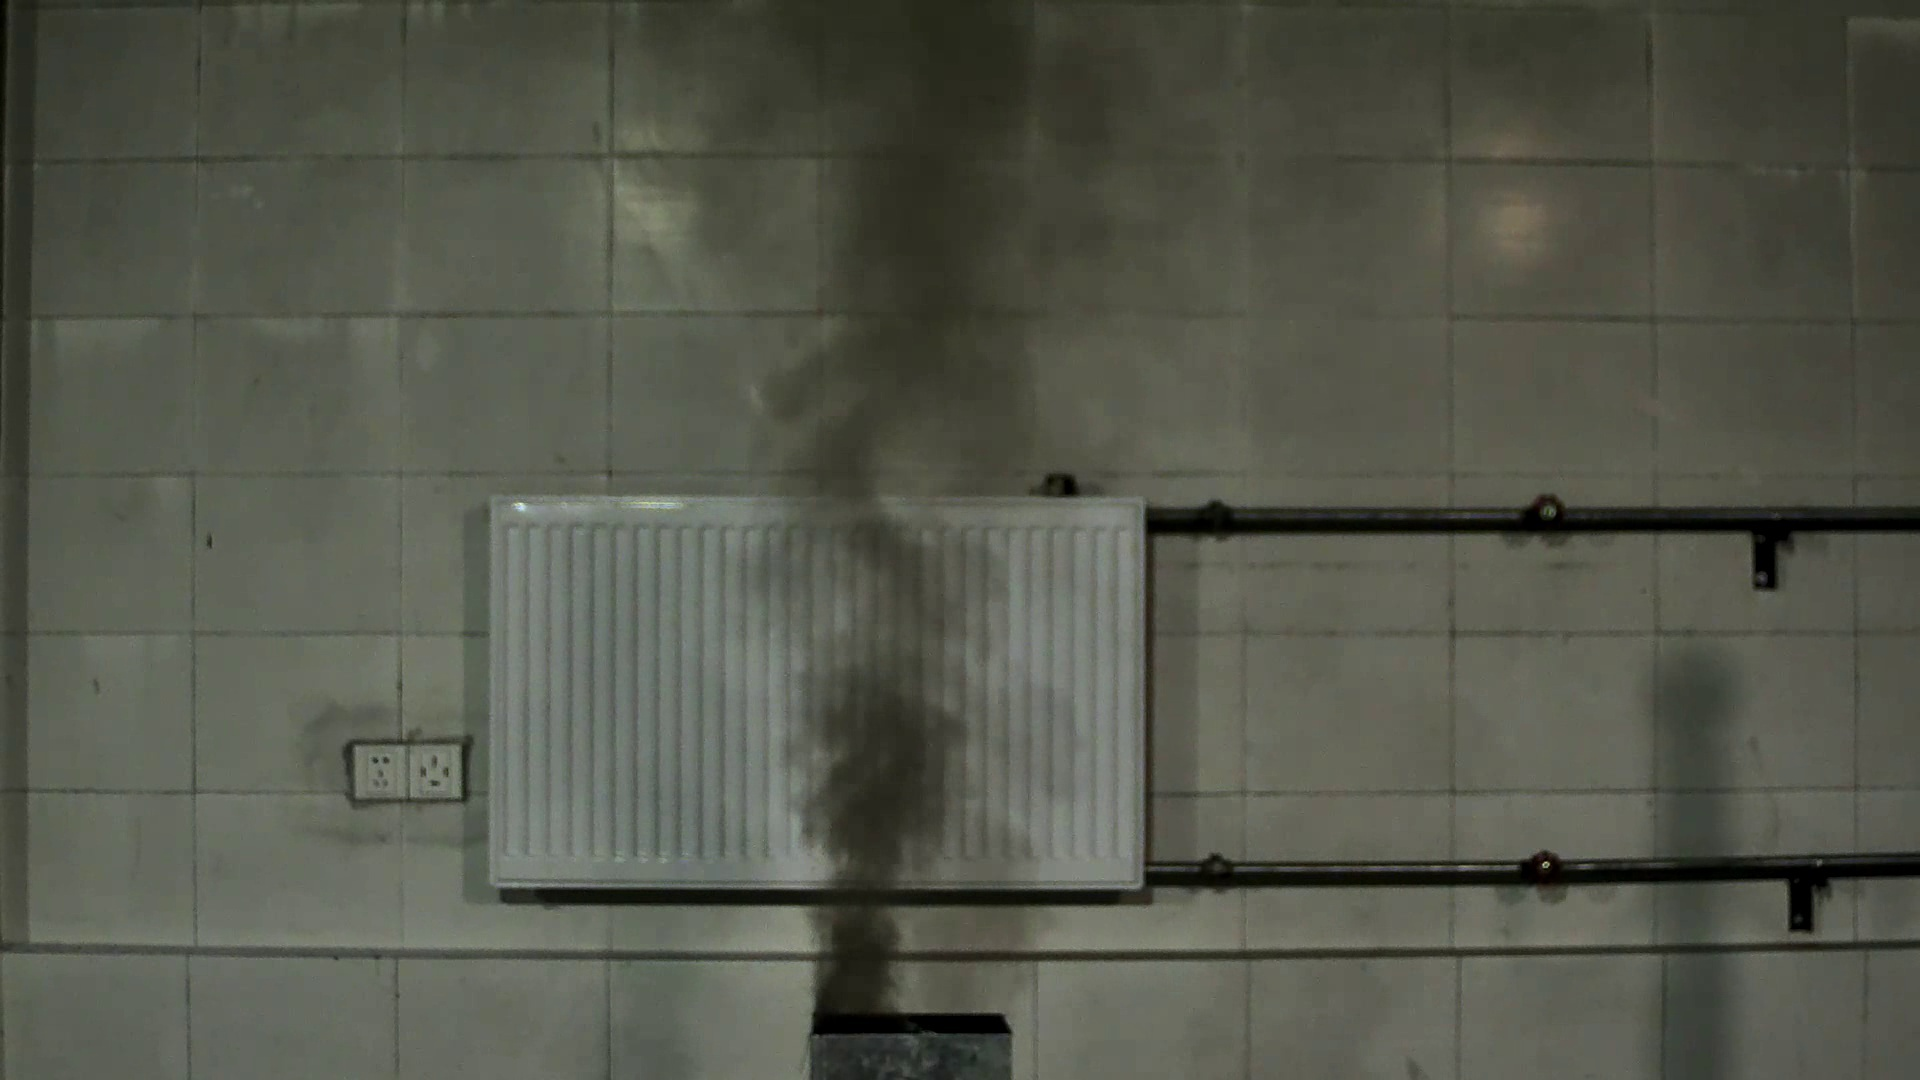smoke: (733, 311, 1006, 1015)
